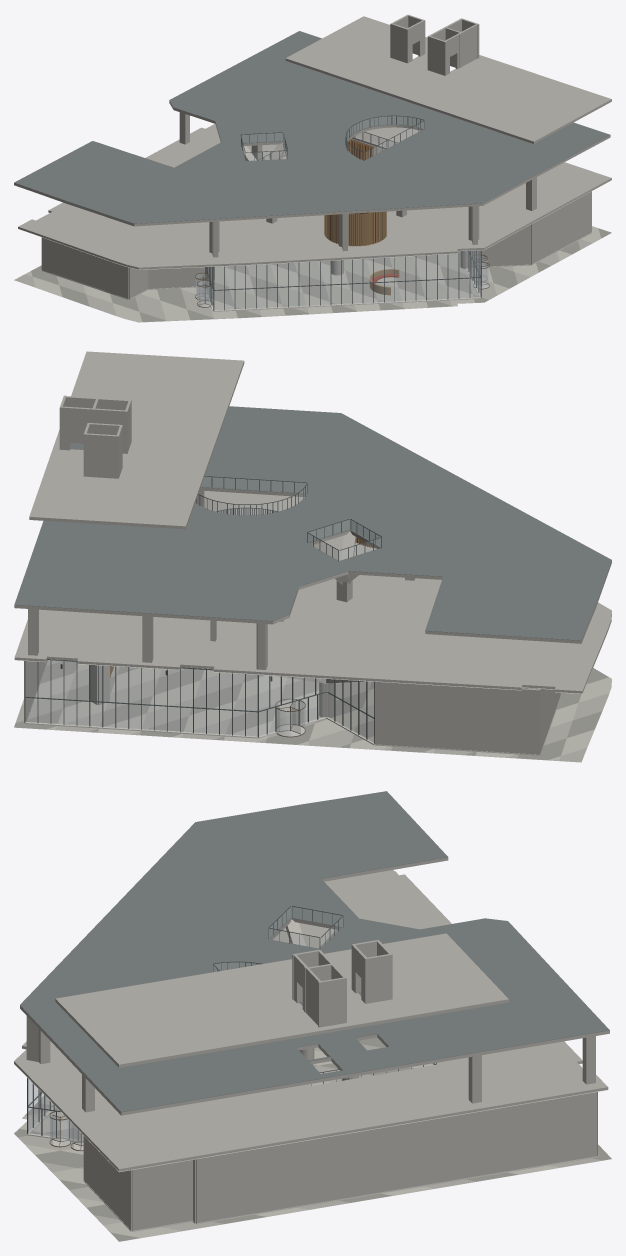
File: mar-interior-0ee6659b31aa.glb
The picture shows the model from 3 angles, top to bottom: view 1: azimuth 30°, elevation 25°; view 2: azimuth 150°, elevation 25°; view 3: azimuth 270°, elevation 25°; orthographic projection. The views are drawn at different scales.
Visible parts, largest first — view 1: MAR.001; view 2: MAR.001; view 3: MAR.001.
Boxes of the visible parts, x1,y1,x2,y2 form: MAR.001: (14,14,611,322); MAR.001: (14,351,611,762); MAR.001: (14,791,611,1241).
Bounding box in the file's own units: 67.69 × 21.83 × 53.21.
